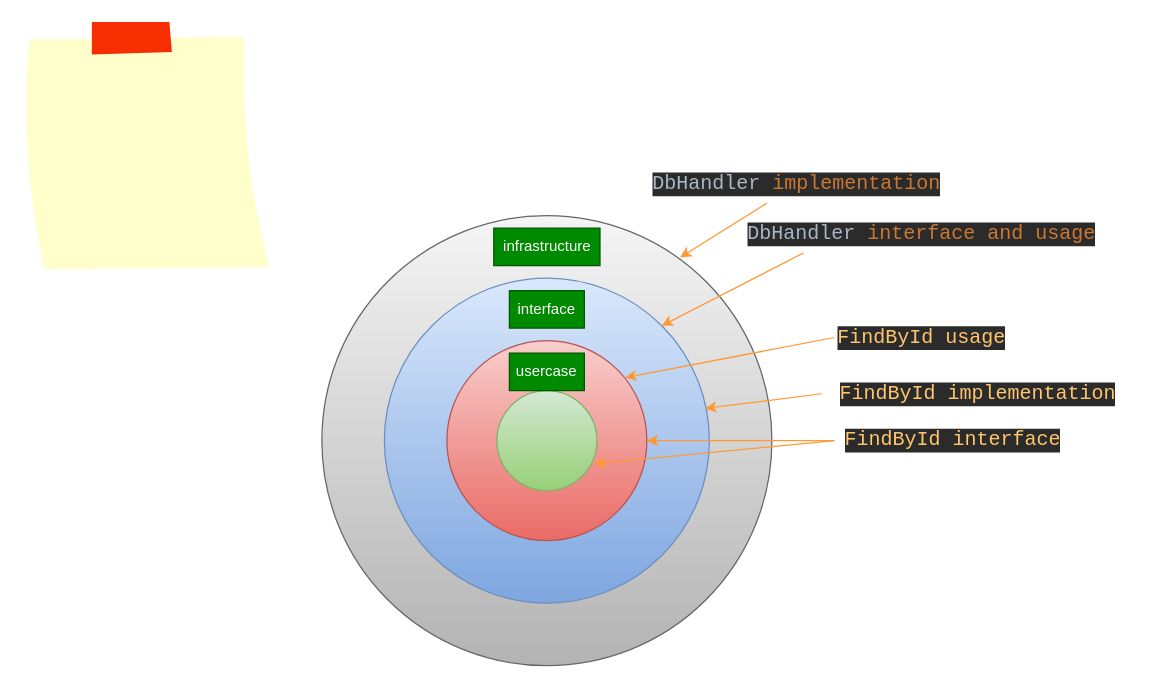
The diagram is 1156 pixels wide and 688 high, and some of its shapes have lost their labels. The centre of each missing label's shape, as x and y in pixels:
"- Outer circle handle implementation - Inner circle declares interfaces" goes at [146,146].
"domain" goes at [546,440].
